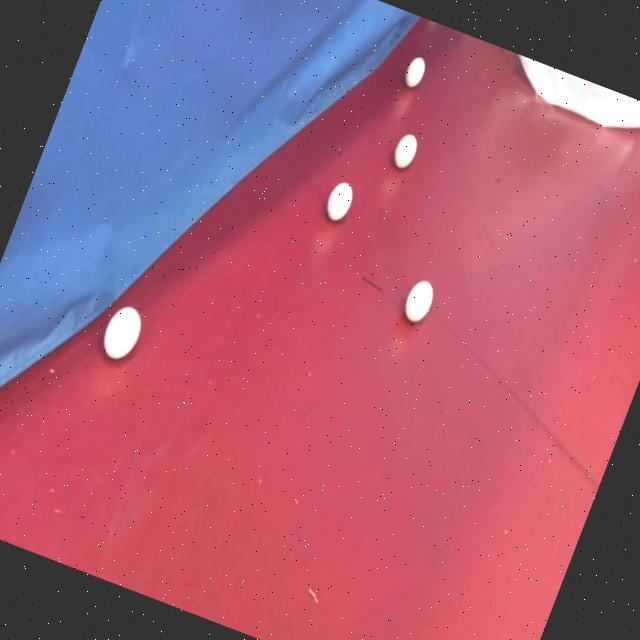ping-pong-ball: (94, 297, 149, 366), (396, 272, 440, 328), (318, 174, 359, 228), (387, 126, 422, 174), (398, 51, 431, 92)
